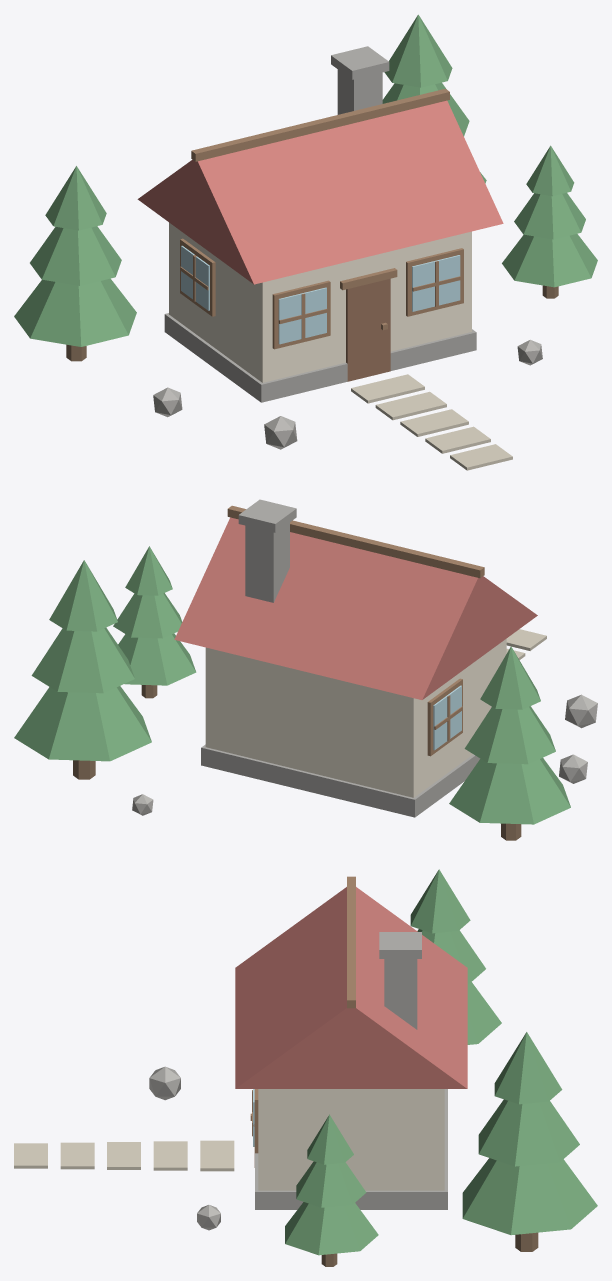
The model's file is casita.glb.
3 views of the same model, one above another, from view 1: azimuth 30°, elevation 25°; view 2: azimuth 150°, elevation 25°; view 3: azimuth 270°, elevation 25° (orthographic).
Parts seen in each view (by area): view 1: techo, paredes, Cone, zocalo, puerta, Cone.001, Cone.003, cumbrera, Cone.008, Cone.004, Cone.002, vidrio (+16 smaller); view 2: techo, paredes, Cone.006, Cone, zocalo, Cone.007, Cone.001, chimenea, Cone.003, Cone.008, cumbrera, Cone.004 (+8 smaller); view 3: techo, paredes, Cone.006, Cone.007, Cone.003, zocalo, Cone.008, Cone.004, Cone.002, chimenea, Cone.005, Cone (+9 smaller).
Boxes of the visible parts, x1=… form: techo: x1=137, y1=100, x2=503, y2=284; paredes: x1=169, y1=222, x2=471, y2=382; Cone: x1=14, y1=278, x2=136, y2=346; zocalo: x1=164, y1=313, x2=476, y2=402; puerta: x1=346, y1=278, x2=390, y2=381; Cone.001: x1=30, y1=226, x2=121, y2=285; Cone.003: x1=502, y1=234, x2=597, y2=287; cumbrera: x1=191, y1=88, x2=449, y2=161; Cone.008: x1=384, y1=14, x2=452, y2=87; Cone.004: x1=514, y1=192, x2=585, y2=239; Cone.002: x1=45, y1=166, x2=106, y2=230; vidrio: x1=278, y1=287, x2=326, y2=344; techo: x1=174, y1=517, x2=537, y2=699; paredes: x1=205, y1=638, x2=506, y2=797; Cone.006: x1=14, y1=686, x2=151, y2=761; Cone: x1=449, y1=758, x2=570, y2=824; zocalo: x1=201, y1=744, x2=480, y2=817; Cone.007: x1=31, y1=627, x2=134, y2=693; Cone.001: x1=464, y1=706, x2=555, y2=764; chimenea: x1=245, y1=522, x2=289, y2=602; Cone.003: x1=118, y1=633, x2=196, y2=685; Cone.008: x1=49, y1=560, x2=117, y2=631; cumbrera: x1=227, y1=505, x2=484, y2=578; Cone.004: x1=113, y1=593, x2=182, y2=638; techo: x1=235, y1=887, x2=467, y2=1088; paredes: x1=258, y1=1089, x2=444, y2=1190; Cone.006: x1=462, y1=1158, x2=597, y2=1235; Cone.007: x1=478, y1=1099, x2=579, y2=1166; Cone.003: x1=285, y1=1202, x2=378, y2=1255; zocalo: x1=255, y1=1089, x2=447, y2=1209; Cone.008: x1=494, y1=1032, x2=562, y2=1104; Cone.004: x1=296, y1=1161, x2=366, y2=1207; Cone.002: x1=410, y1=869, x2=470, y2=933; chimenea: x1=384, y1=959, x2=417, y2=1029; Cone.005: x1=307, y1=1114, x2=353, y2=1164; Cone: x1=467, y1=982, x2=501, y2=1044.
Size of what is drawn, in the model's own units: 10.8 by 5.14 by 10.66.
